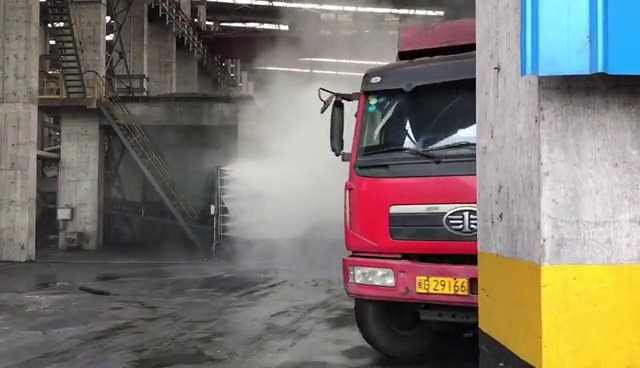dust: (237, 17, 361, 249)
truck: (330, 12, 478, 368)
